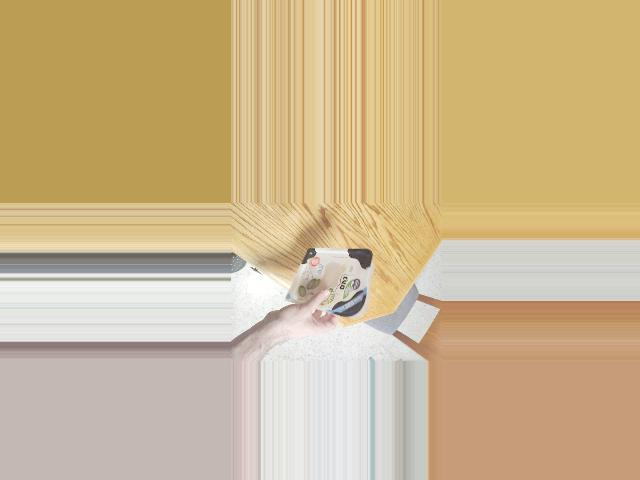cheese: (291, 254, 375, 306)
